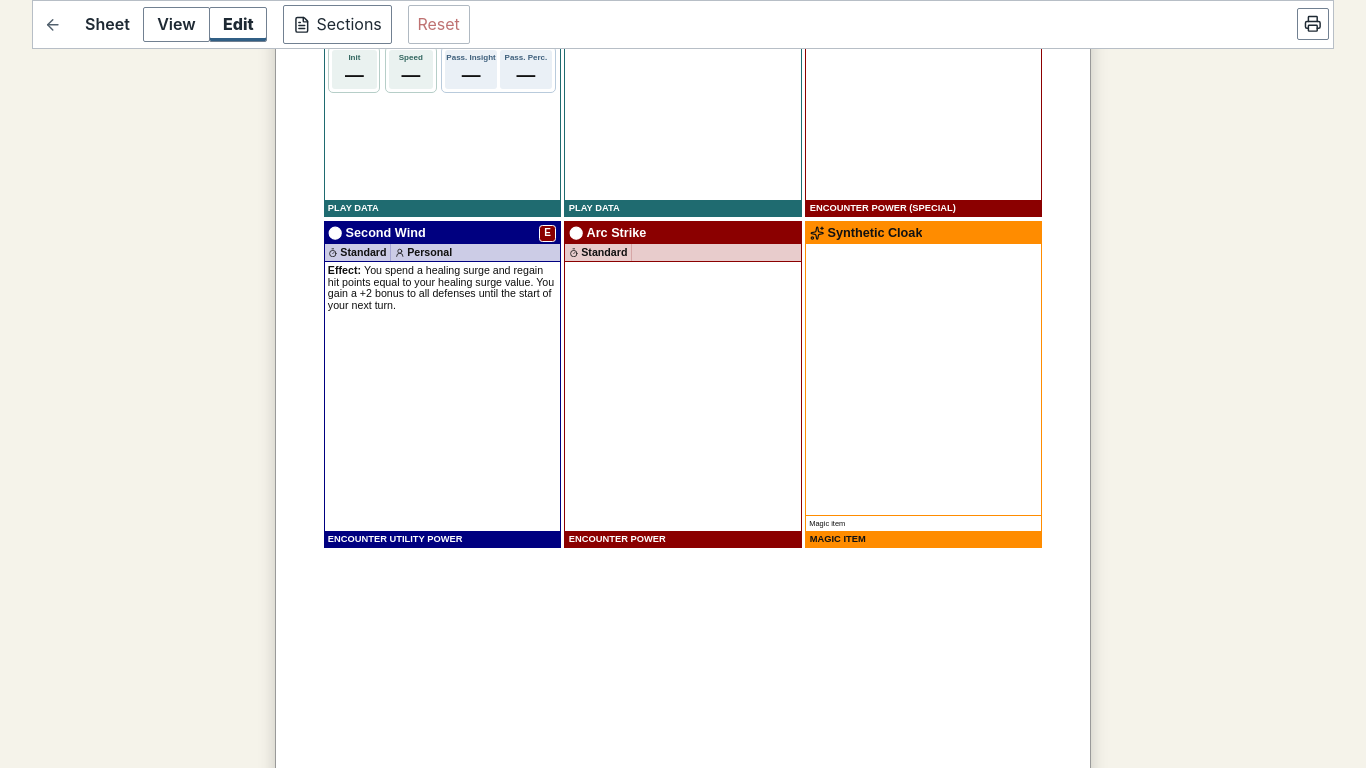
Test: character sheet Edit mode › hides cards by right-click without re-evaluating, saving silently
The width and height of the screenshot is (1366, 768).
(page scrolled)
Right-click the button named "Hide Arc Strike": (683,385) 564,221 -> 802,548
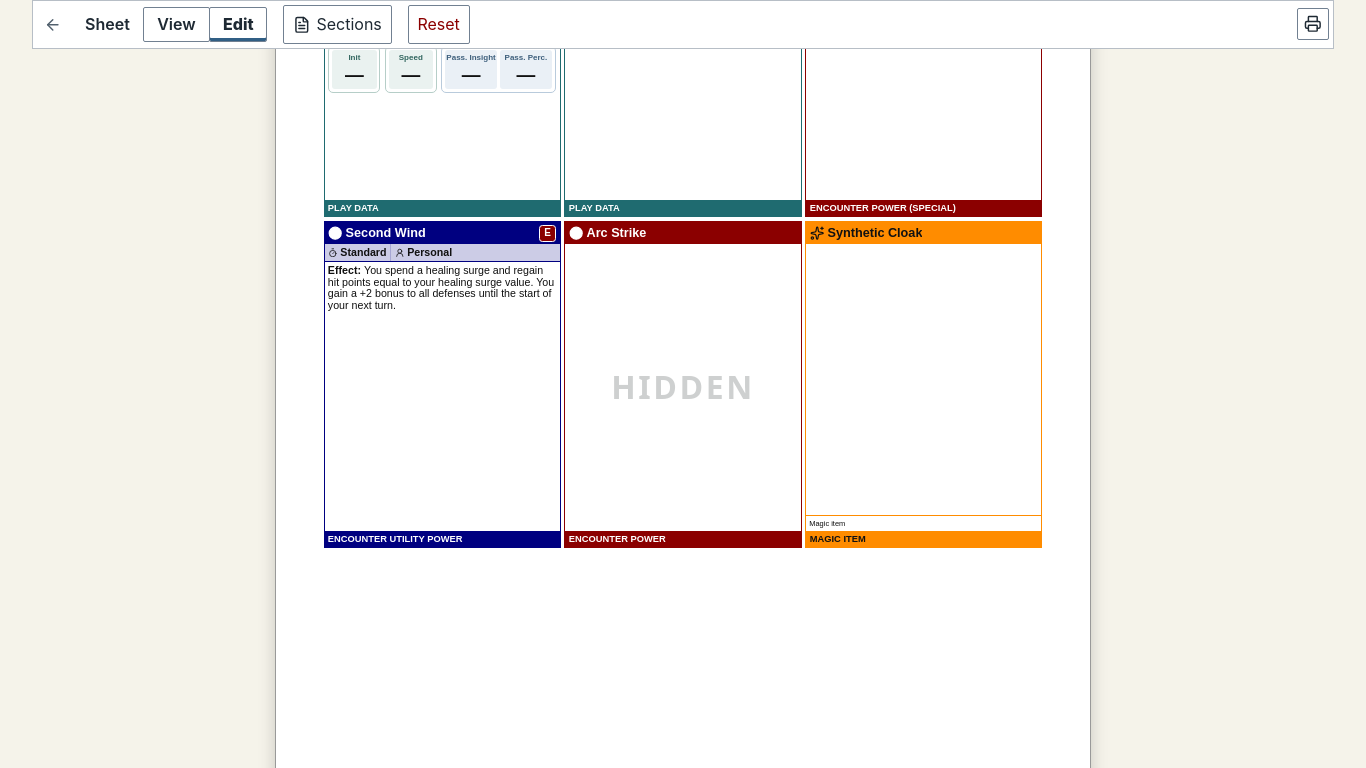
Right-click the button named "Hide Synthetic Cloak": (924,385) 805,221 -> 1042,548
(page scrolled)
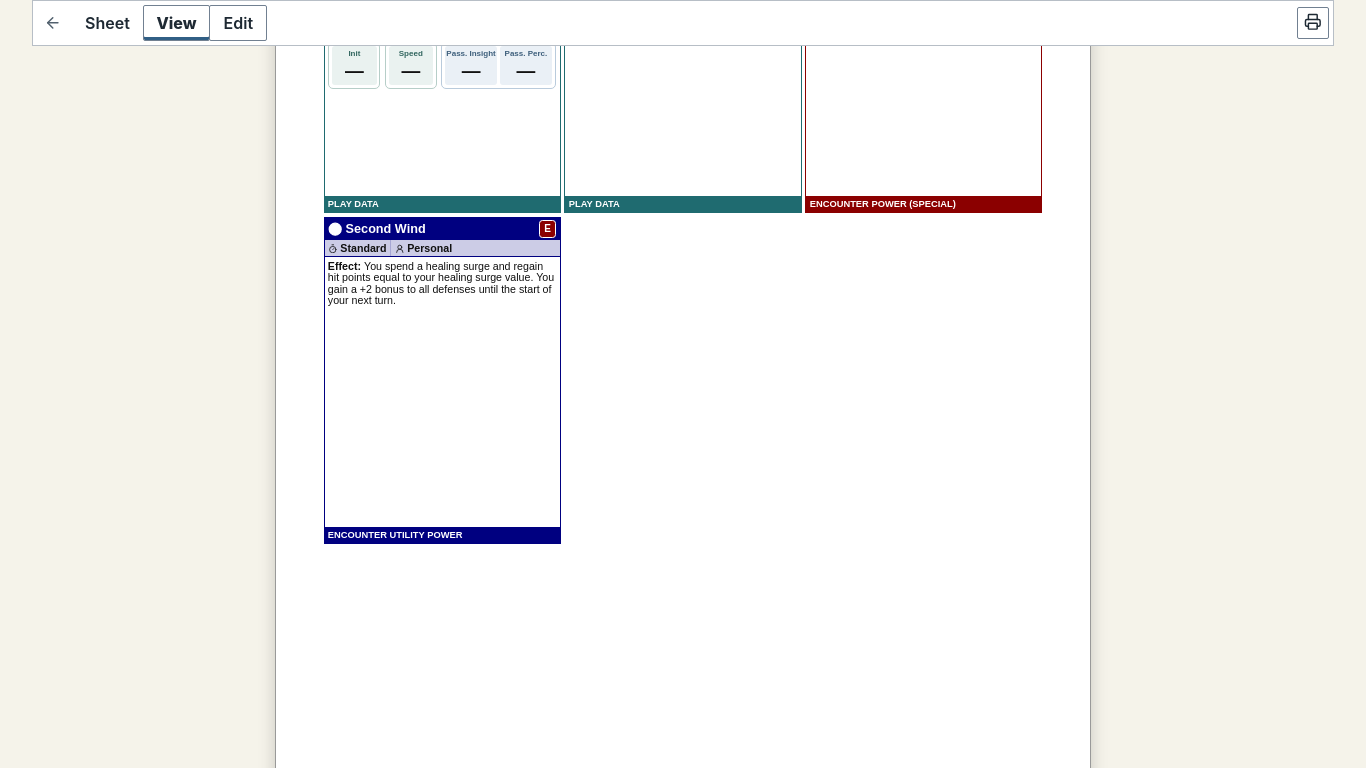
Expected: the text "Synthetic Cloak" is not shown
Expected: the text "Arc Strike" is gone
